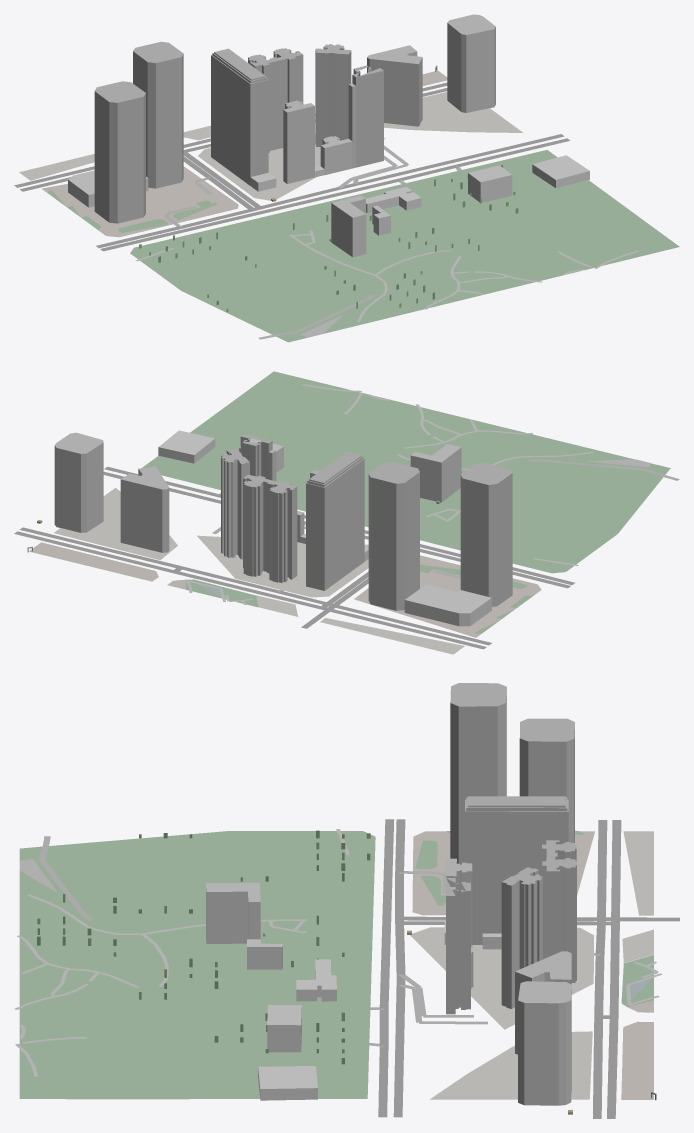
3 renders of one model, top to bottom at view 1: azimuth 30°, elevation 25°; view 2: azimuth 150°, elevation 25°; view 3: azimuth 270°, elevation 25°, orthographic. The views are drawn at different scales.
Bounding box in the file's own units: 556 × 144 × 525.
